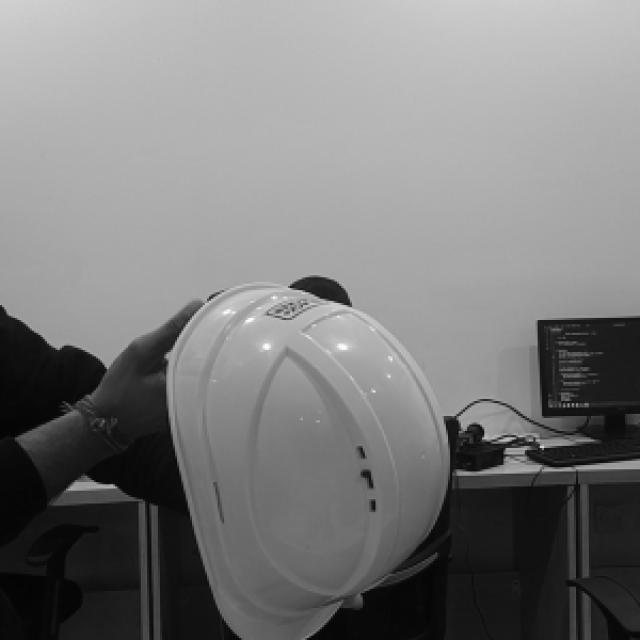safety_helmet: (165, 283, 447, 639)
